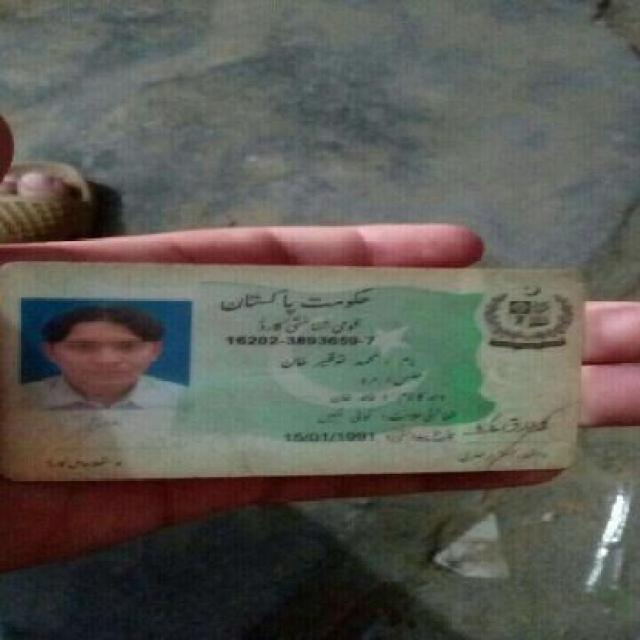Front: (4, 249, 596, 486)
